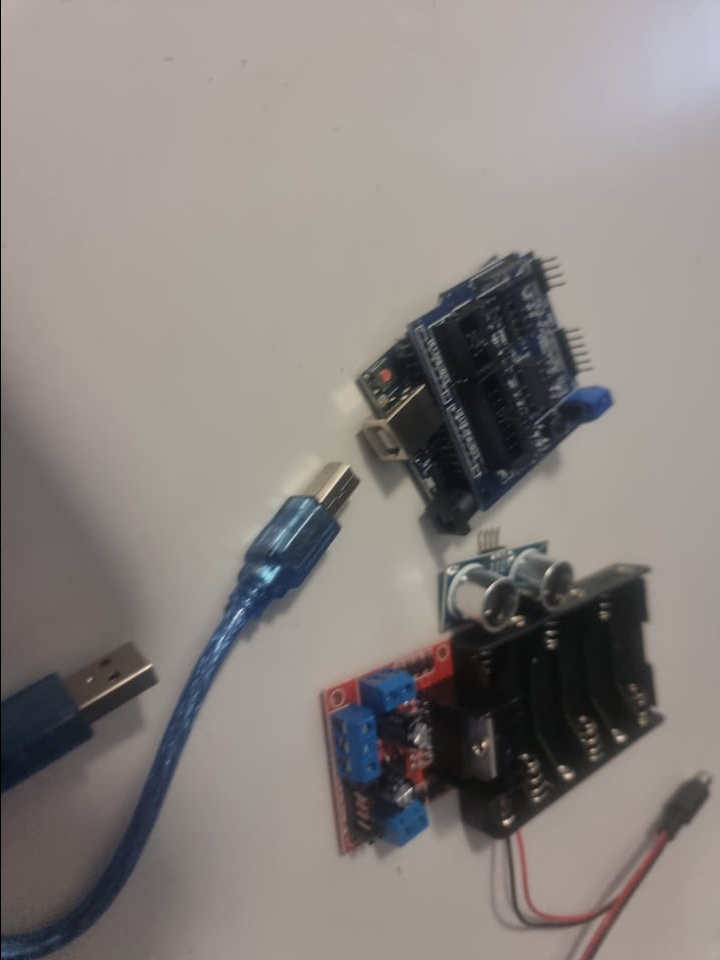5V EXPANSION: (424, 251, 610, 500)
BATTERY BOX: (469, 561, 669, 844)
MOTOR: (314, 645, 506, 856)
SENSOR: (437, 548, 576, 628)
UNO R3: (356, 349, 471, 544)
